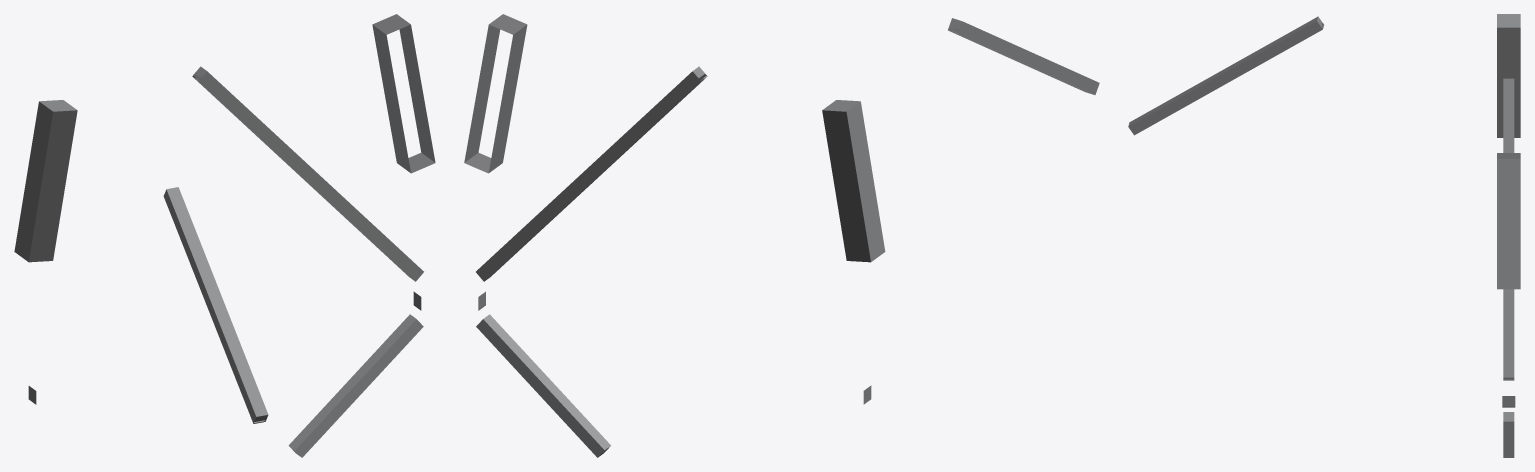
3 renders of one model, left to right at view 1: azimuth 30°, elevation 25°; view 2: azimuth 150°, elevation 25°; view 3: azimuth 270°, elevation 25°, orthographic. The views are drawn at different scales.
Size of the model in its own units: 1.07 by 1.03 by 1.07.
